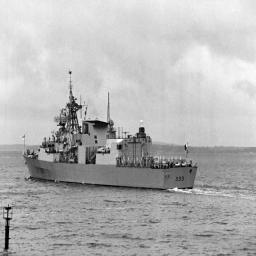Fragata: (23, 66, 199, 195)
